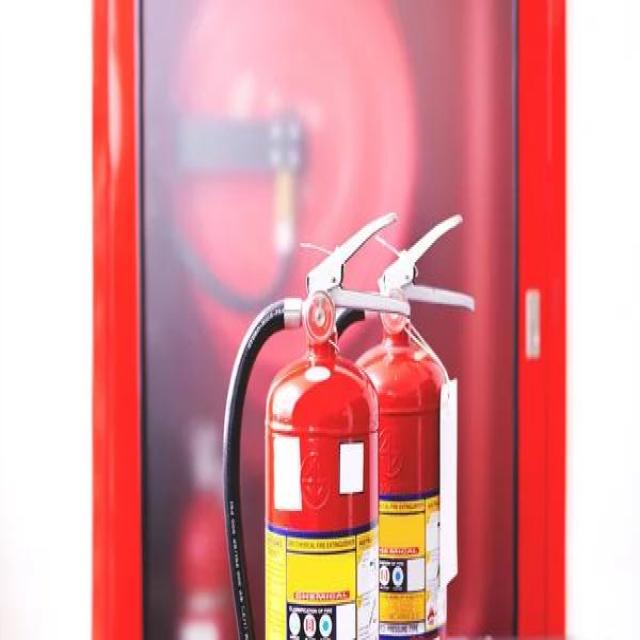fire_extinguisher: (218, 203, 415, 638), (292, 203, 478, 638)
